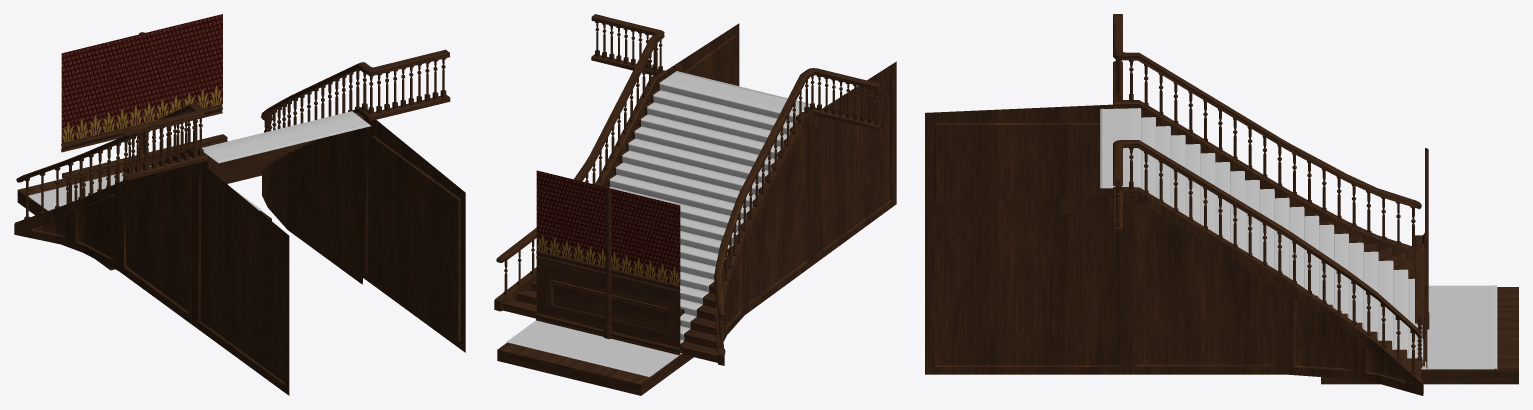
File: foyerAssets.fbx
3 views of the same model, side by side, from view 1: azimuth 30°, elevation 25°; view 2: azimuth 150°, elevation 25°; view 3: azimuth 270°, elevation 25° (orthographic). The views are drawn at different scales.
Visible parts, largest first — view 1: stairs, wall_halfWood, stairRunner, bannisterStraight, pPlane1, floor_mezzanine; view 2: stairs, stairRunner, wall_halfWood, pPlane1, floor_mezzanine, wallColumn, bannisterStraight; view 3: stairs, stairRunner, pPlane1, floor_mezzanine, bannisterStraight, wallColumn.
Boxes of the visible parts, x1,y1,x2,y2 form: stairs: (14, 49, 465, 395); wall_halfWood: (61, 14, 222, 152); stairRunner: (202, 111, 370, 163); bannisterStraight: (62, 134, 227, 203); pPlane1: (28, 164, 261, 210); floor_mezzanine: (17, 154, 271, 270); stairs: (494, 14, 896, 365); stairRunner: (609, 71, 809, 343); wall_halfWood: (536, 170, 680, 356); pPlane1: (506, 320, 682, 376); floor_mezzanine: (497, 342, 693, 395); wallColumn: (604, 188, 611, 339); bannisterStraight: (550, 280, 684, 355); stairs: (925, 14, 1423, 395); stairRunner: (1100, 108, 1423, 366); pPlane1: (1421, 285, 1497, 369); floor_mezzanine: (1321, 287, 1518, 384); bannisterStraight: (1415, 235, 1424, 367); wallColumn: (1425, 148, 1429, 329).
Bounding box in the file's own units: 800 × 546 × 1200.
